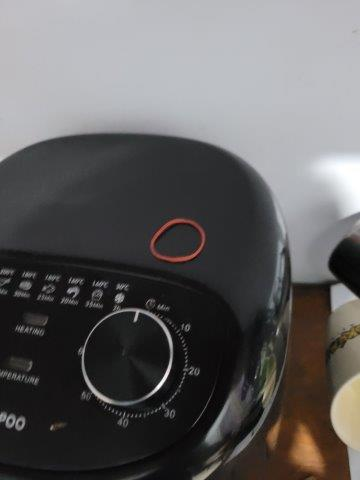karet: (149, 216, 206, 264)
